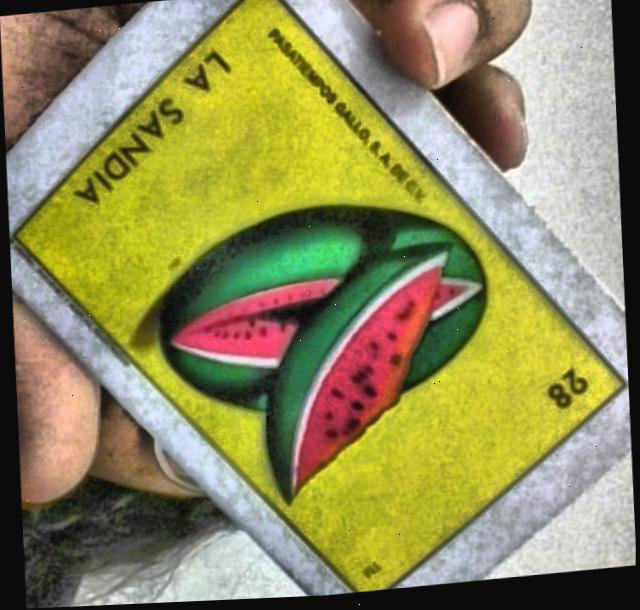La Sandia: (11, 0, 623, 594)
